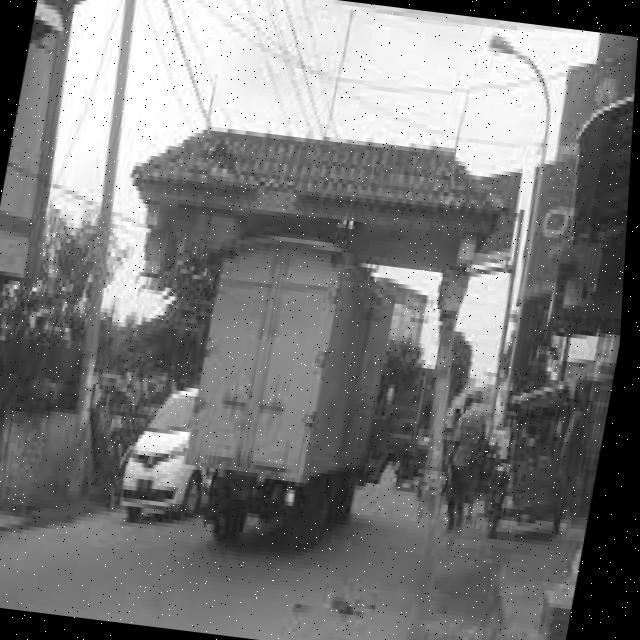truck: (168, 219, 418, 566)
